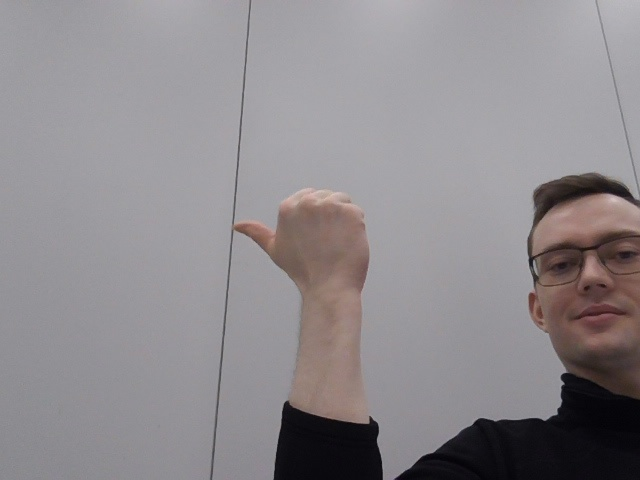right: (208, 163, 404, 334)
